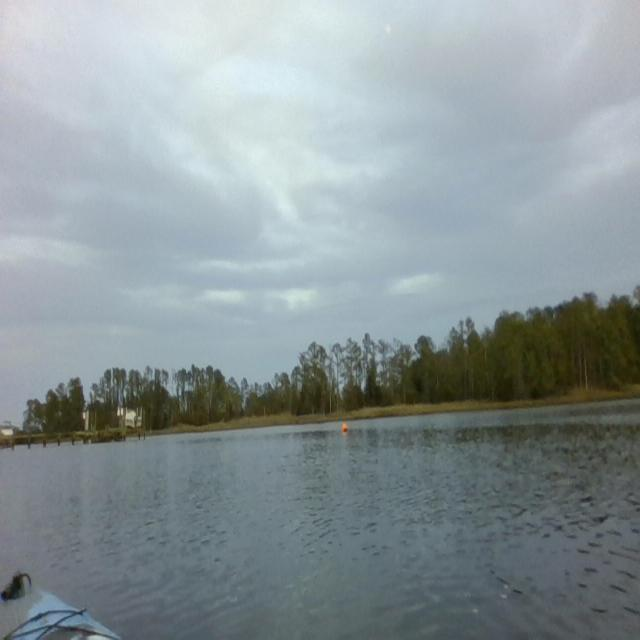Buoy: (341, 422, 349, 434)
